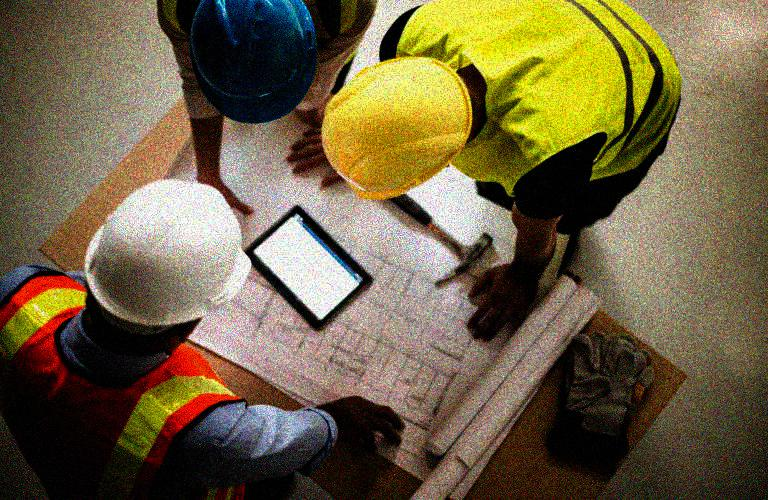helmet: (78, 177, 253, 354), (321, 60, 485, 209), (185, 1, 322, 130)
